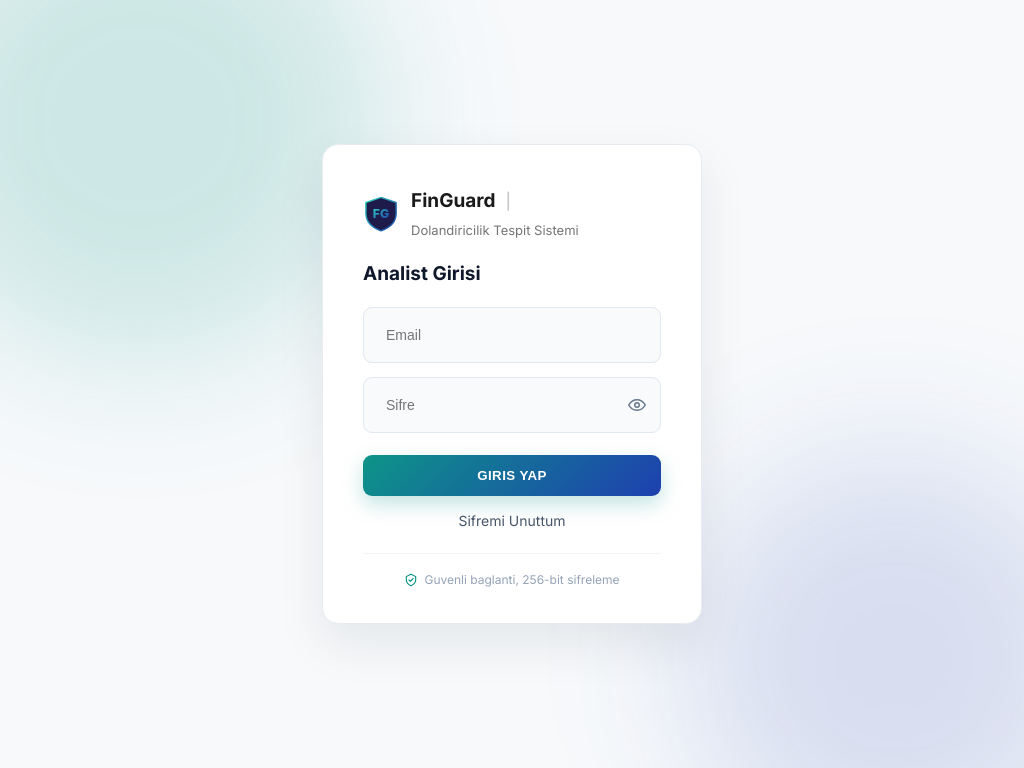
Scenario: Login.vue › 2FA acik bir hesapta sifre dogruysa kod ekranina gecmeli, henuz yonlendirmemeli
The image size is (1024, 768).
Type "test@example.com" into the field with placeholder "Email" at (512, 335), box [378, 319, 646, 351]
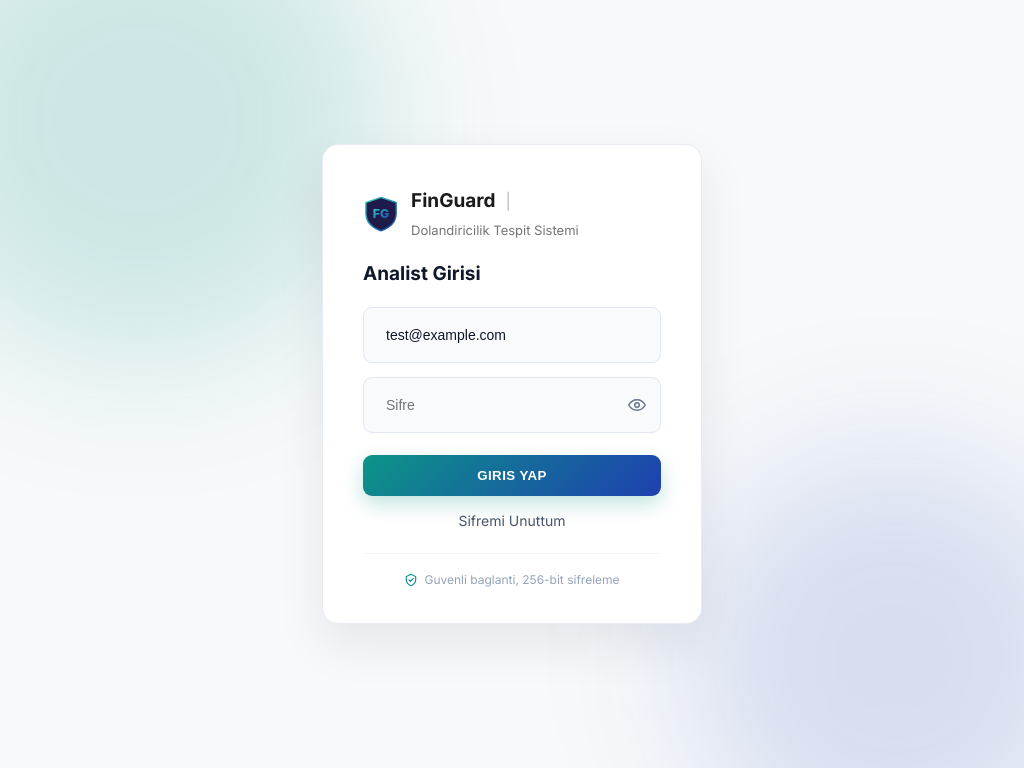
Type "sifre123" into the password field with placeholder "Sifre" at (499, 405), box [378, 389, 620, 421]
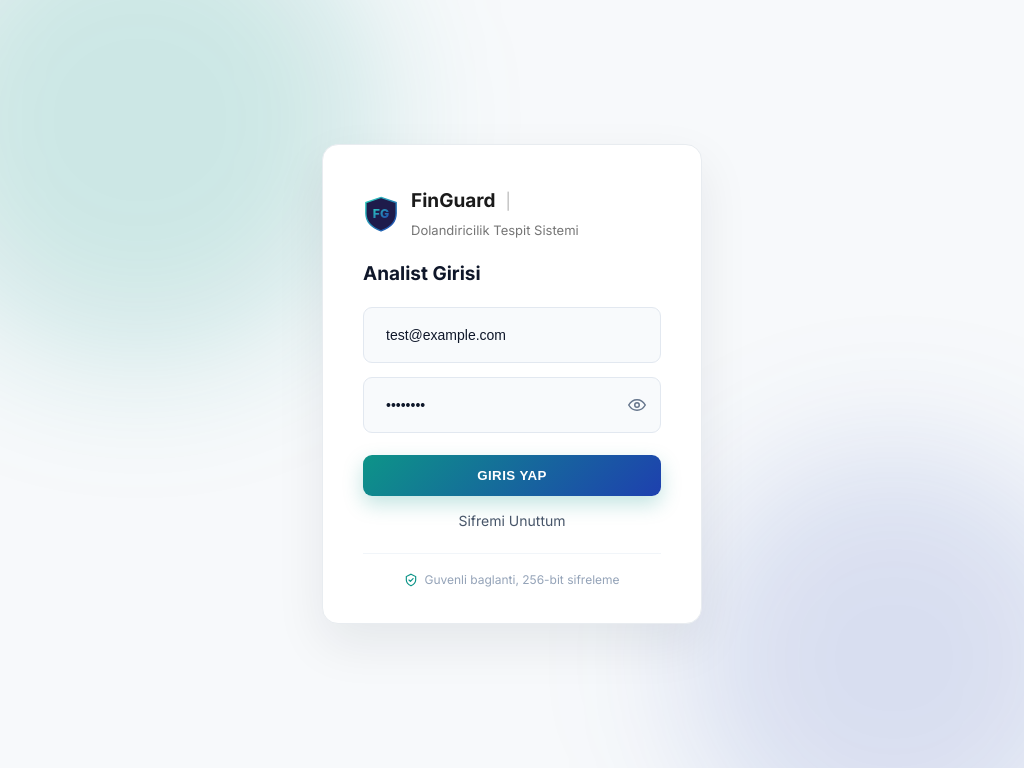
Submit the form, box [363, 307, 661, 496]
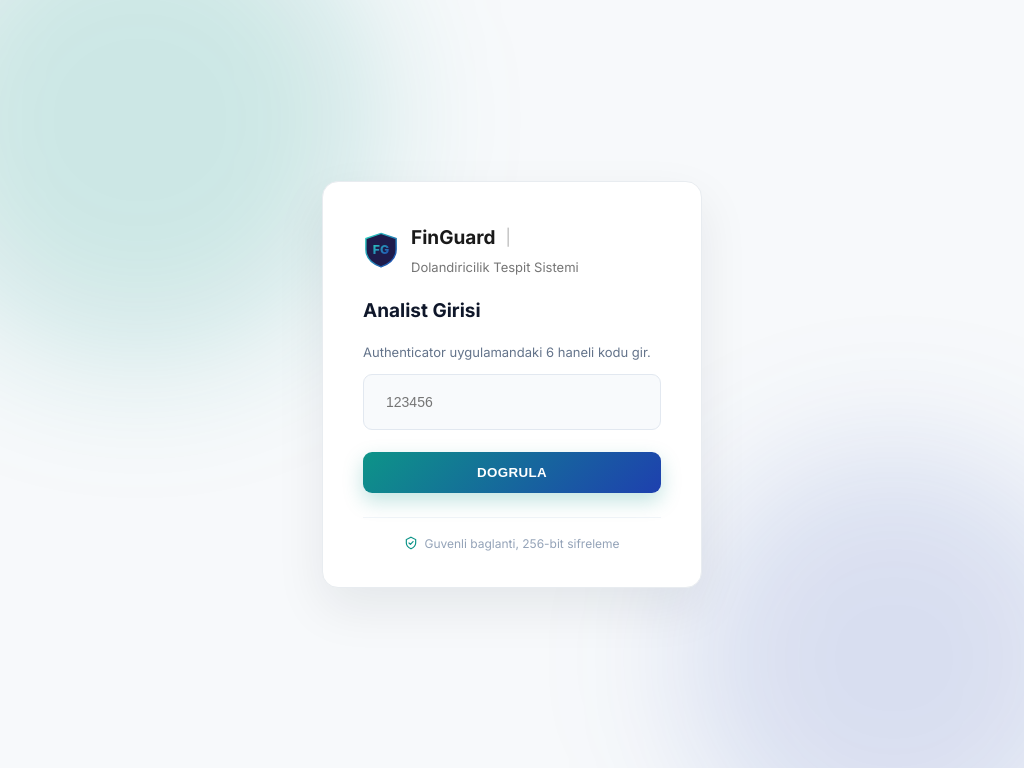
expect the text "Authenticator uygulamandaki" is shown: met, box [363, 344, 651, 360]
